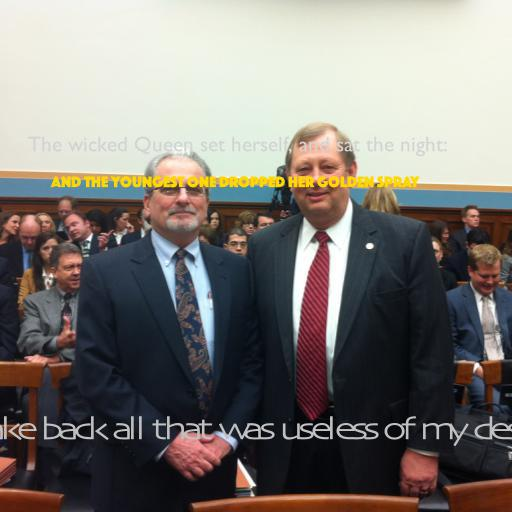Gill Sans: (28, 136, 448, 157)
Phosphate: (51, 176, 419, 188)
Skia: (0, 416, 512, 447)
